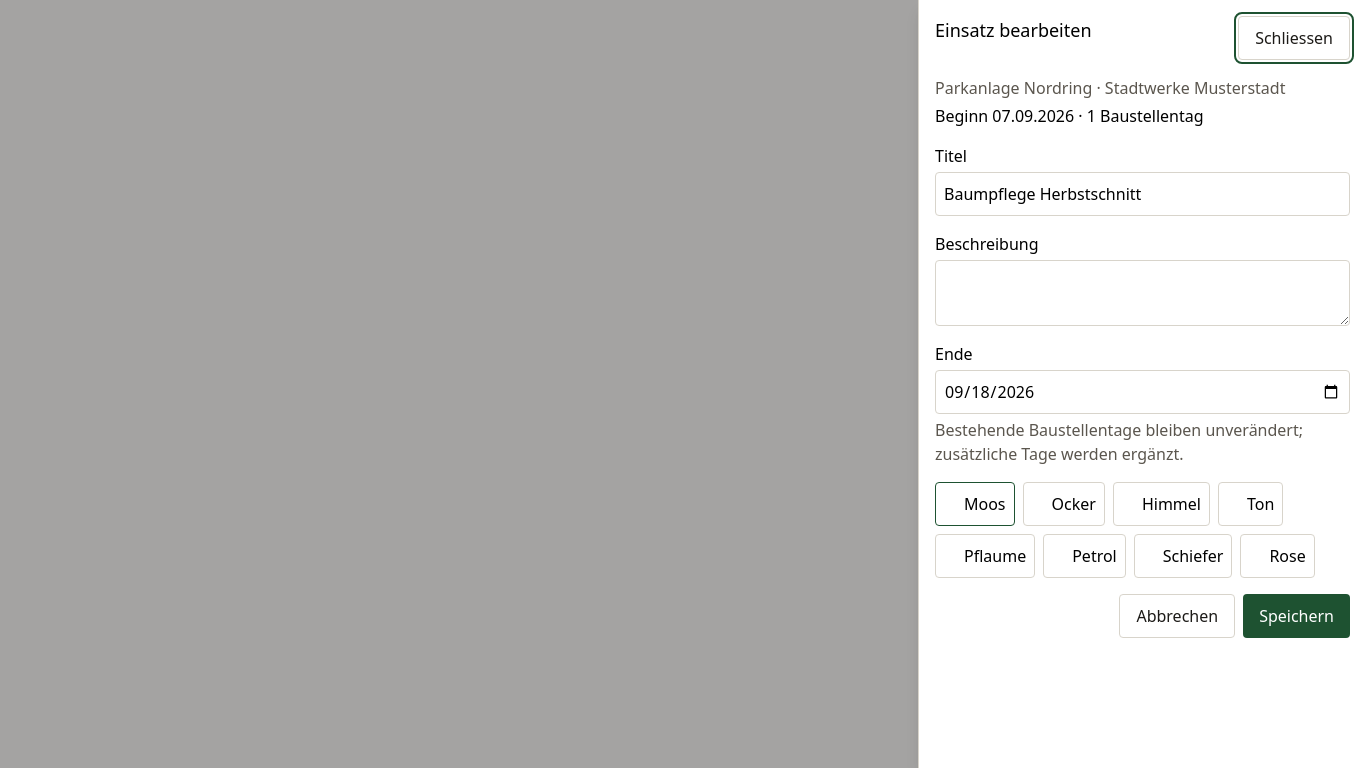
Test: EngagementEditDrawer › zeigt einen Serverfehler sichtbar statt ihn zu verschlucken
In the date field labelled "Ende": (1142, 392) [935,370,1350,414], type "2026-09-08"
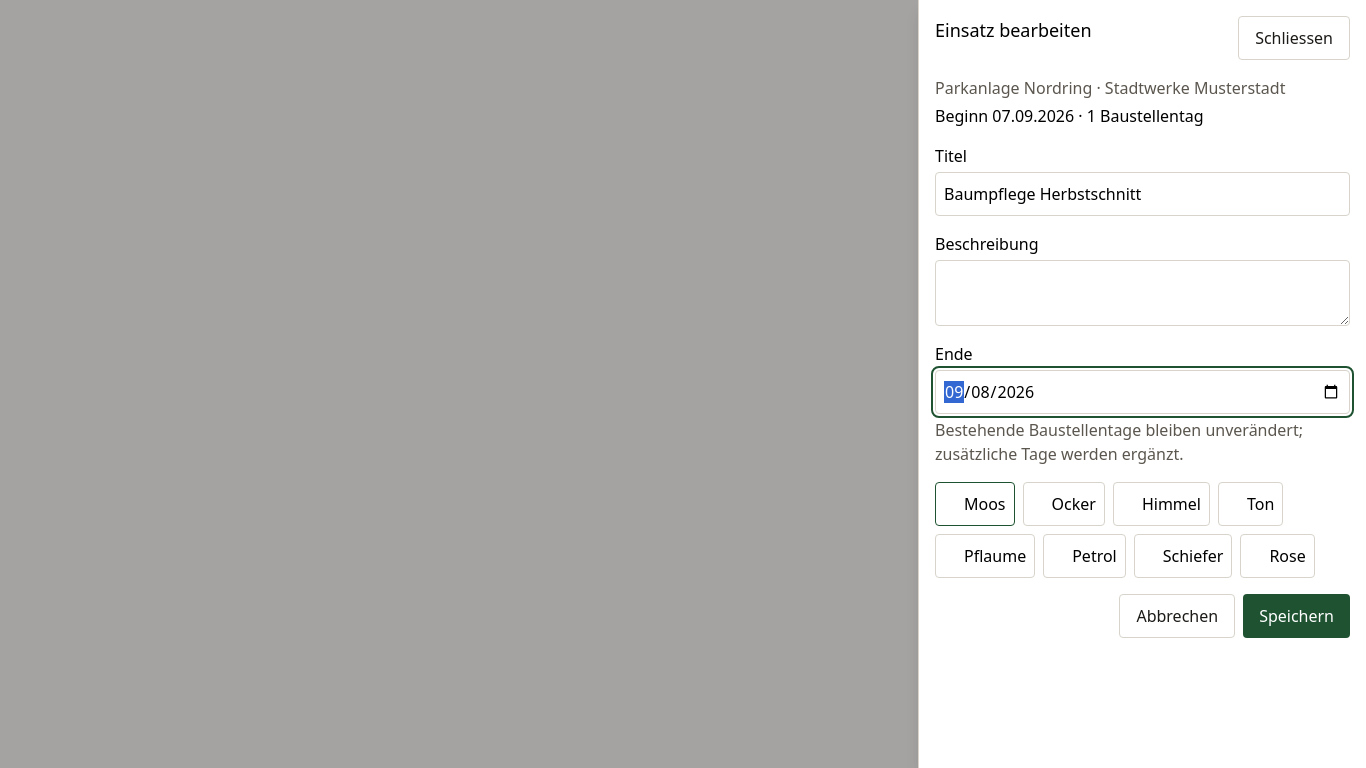
Click the button "Speichern": (1297, 616) [1243,594,1350,638]
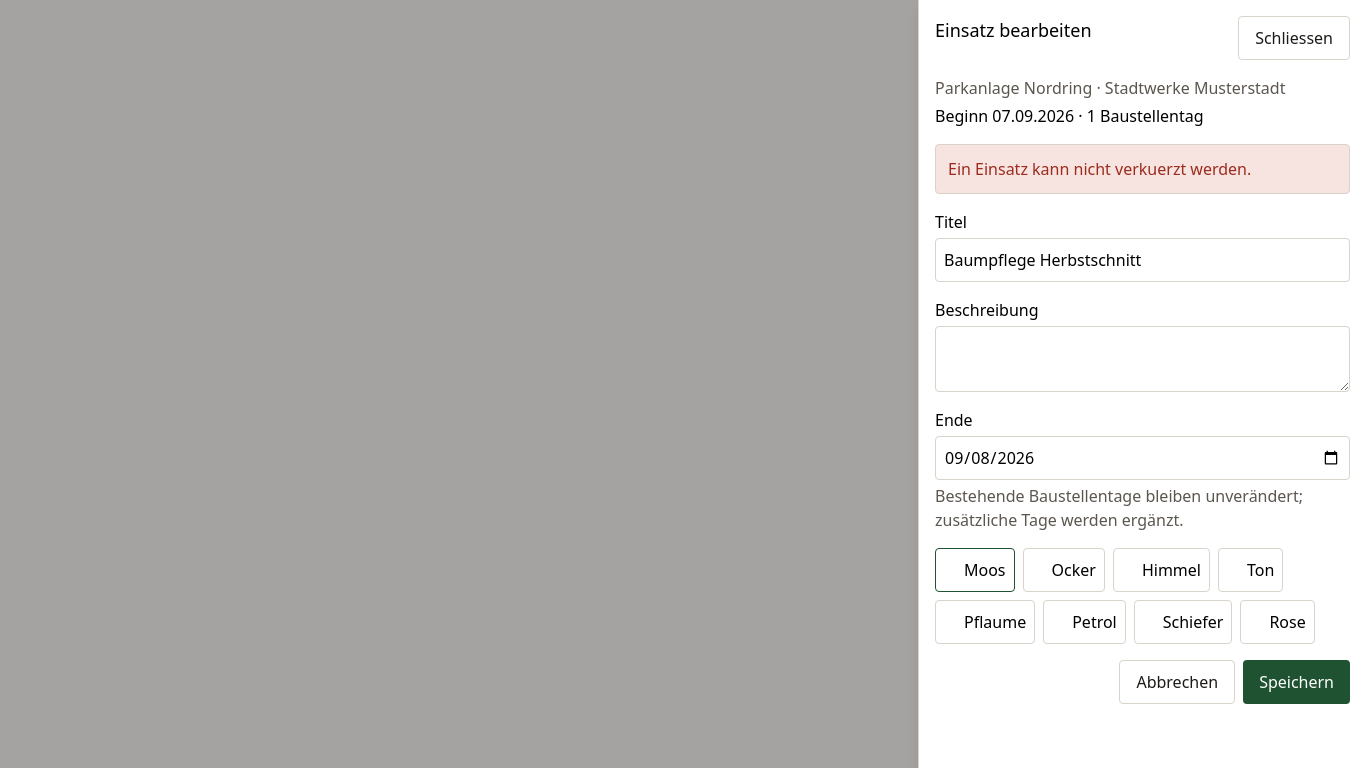
expect the message reads "Ein Einsatz kann nicht verkuerzt werden.": met, box [948,158,1251,180]
